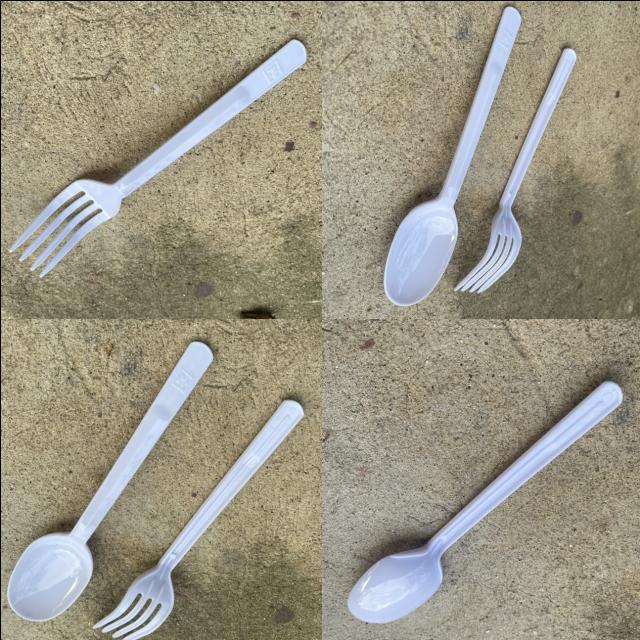plastik: (9, 39, 306, 276), (346, 381, 622, 623), (6, 341, 212, 620), (92, 399, 302, 640), (383, 6, 519, 304), (454, 48, 575, 291), (456, 48, 575, 291)
